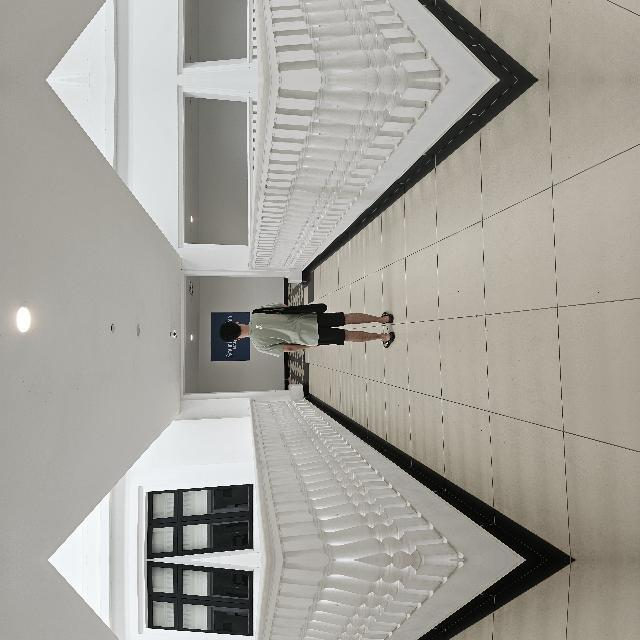person: (202, 299, 258, 475)
